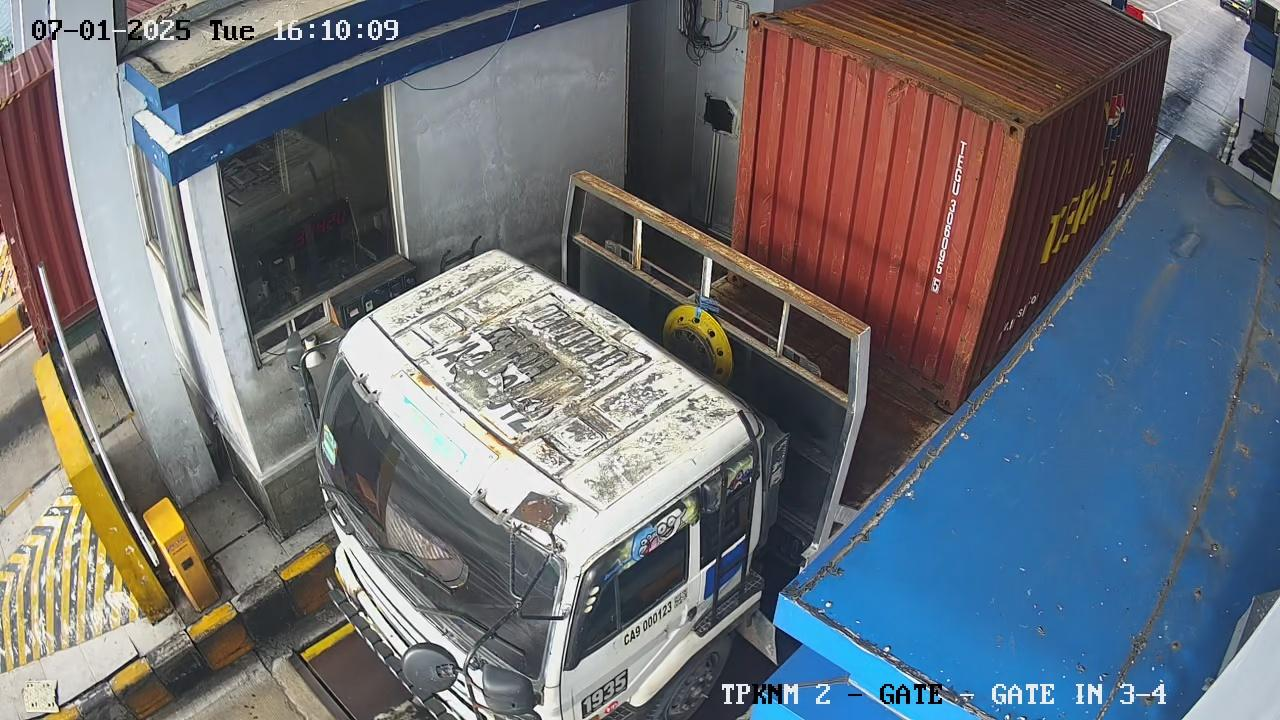Container_ID_Vertikal: (924, 139, 974, 294)
truck_id: (611, 593, 694, 659)
